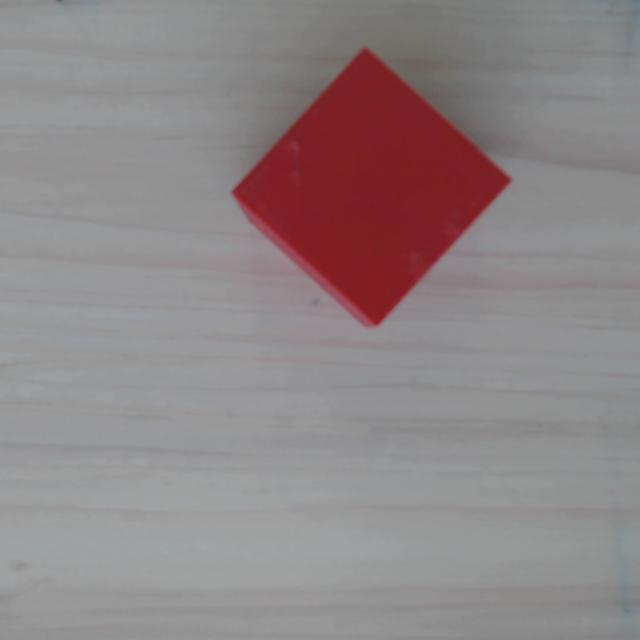Kubus-Merah-505050: (225, 46, 512, 333)
